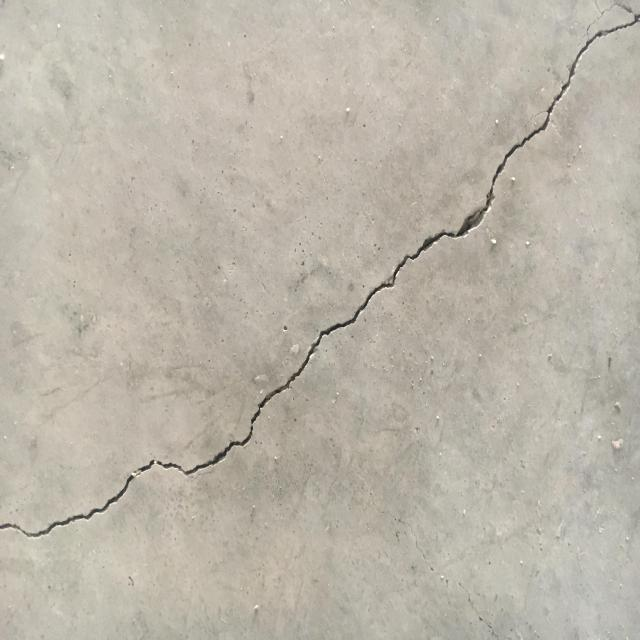Crack: (248, 222, 471, 428), (465, 0, 640, 235), (0, 423, 260, 543)
